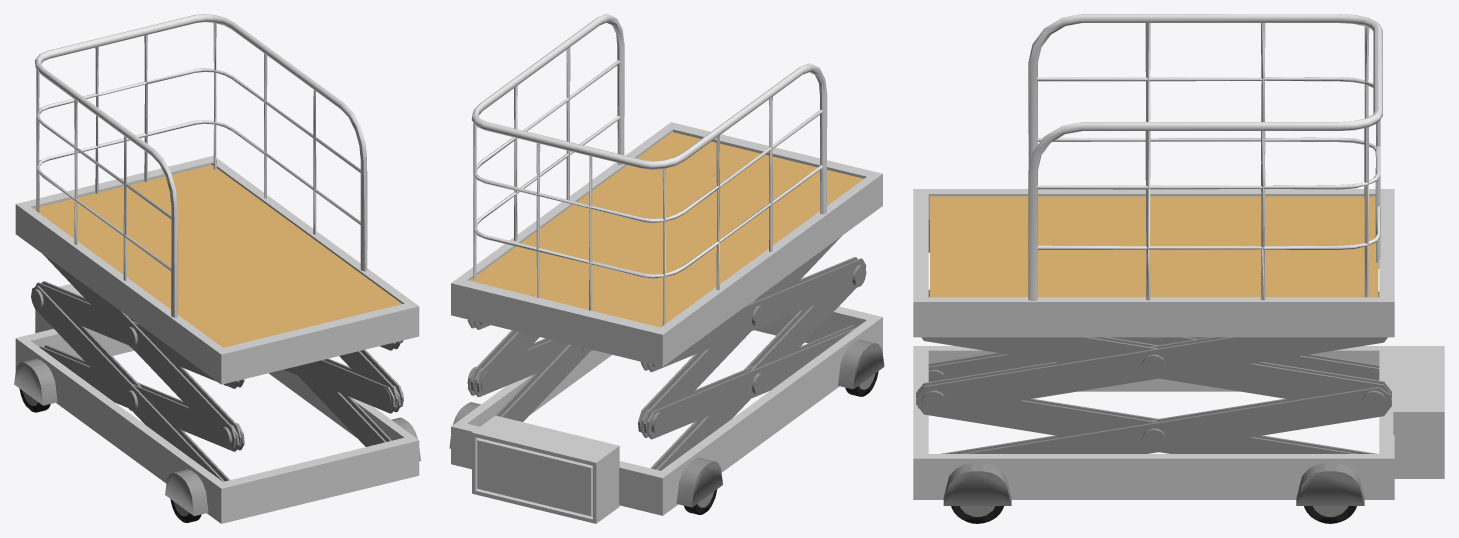
The model's file is ExtendThing.fbx.
3 renders of one model, left to right at view 1: azimuth 30°, elevation 25°; view 2: azimuth 150°, elevation 25°; view 3: azimuth 270°, elevation 25°, orthographic. The views are drawn at different scales.
Parts seen in each view (by area): view 1: 18. ondo.001; view 2: 18. ondo.001; view 3: 18. ondo.001.
Part boxes in pixels (left/top/right/bottom): 18. ondo.001: left=14, top=14, right=420, bottom=523; 18. ondo.001: left=449, top=14, right=884, bottom=523; 18. ondo.001: left=913, top=14, right=1444, bottom=523.
Size of the model in its own units: 81.58 by 115 by 142.
